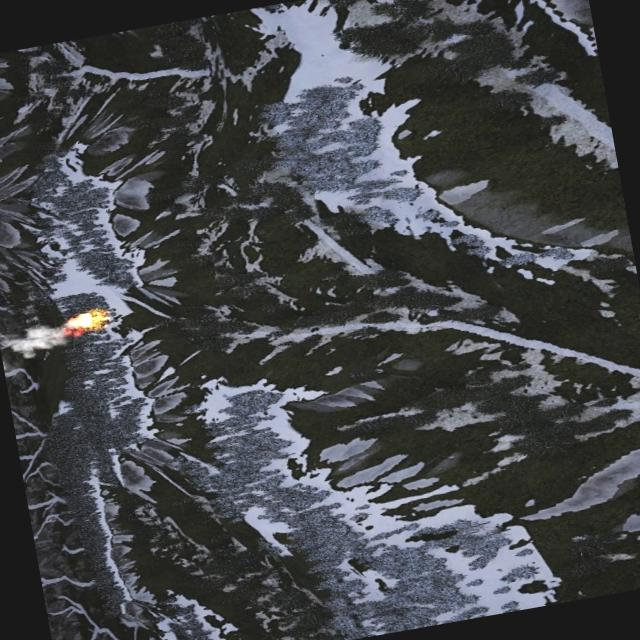fire: (64, 306, 109, 334)
smoke: (0, 318, 67, 363)
